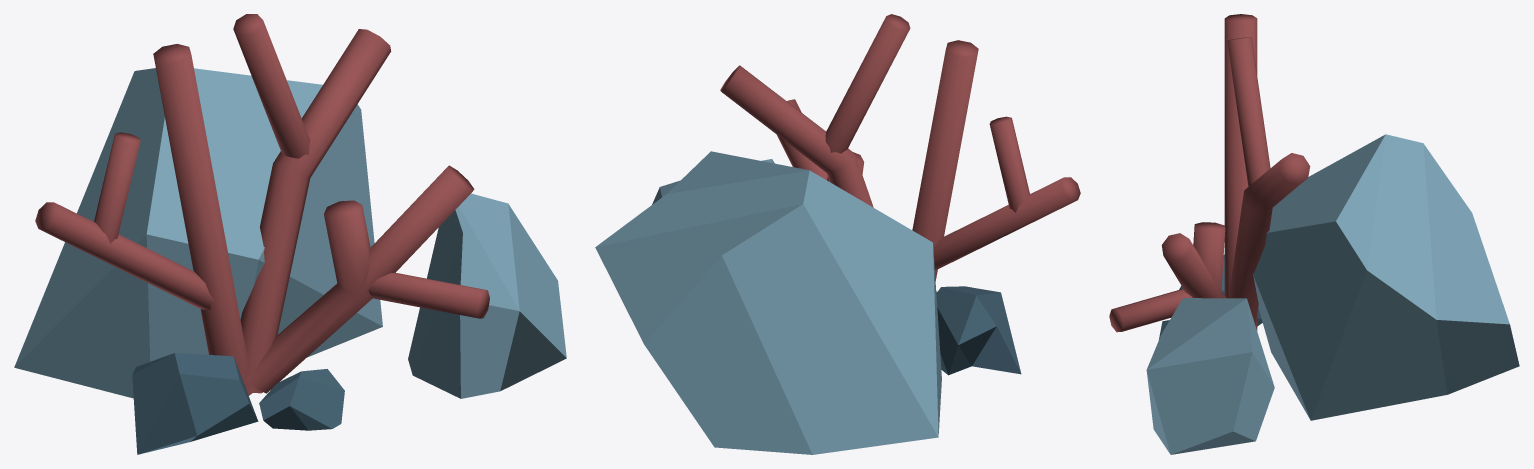
The model's file is 2water_6.fbx.
The picture shows the model from 3 angles, left to right: view 1: azimuth 30°, elevation 25°; view 2: azimuth 150°, elevation 25°; view 3: azimuth 270°, elevation 25°; orthographic projection. The views are drawn at different scales.
Parts seen in each view (by area): view 1: 6; view 2: 6; view 3: 6.
Part boxes in pixels (box(x1,y1,x2,y2)): 6: box(14, 14, 566, 454); 6: box(595, 14, 1080, 454); 6: box(1109, 14, 1519, 454).
Size of the model in its own units: 71.62 by 60.1 by 52.66.
Materials: 1 (1 with a texture image).
